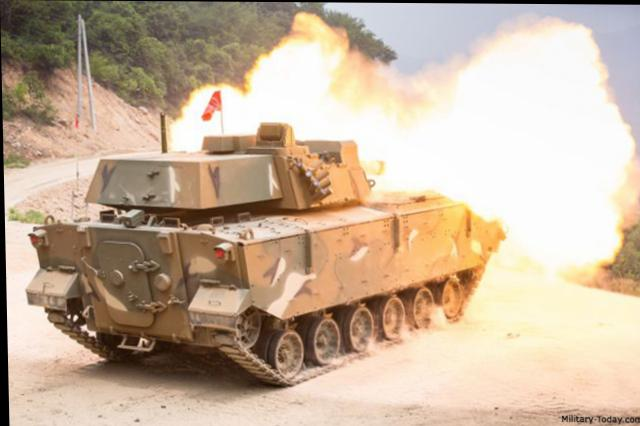tank: (16, 135, 491, 377)
